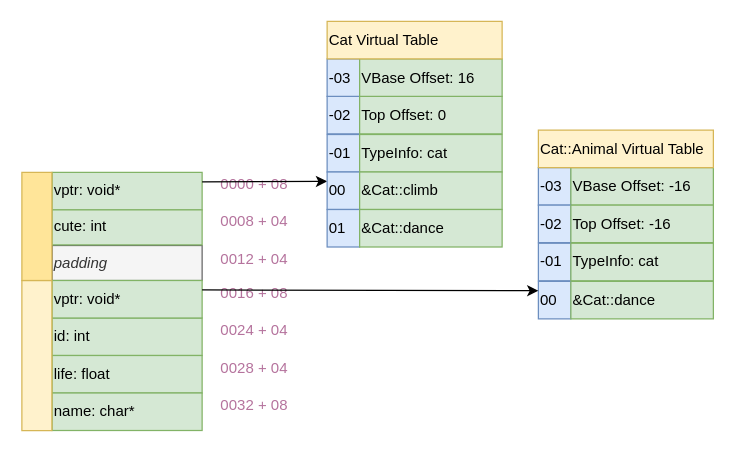
Some shapes in this 736 by 454 pixel diagram are drawn without their labels. The centre of each missing label's shape, as x and y in pixels:
"Animal" belongs at (x=36, y=355).
"Cat" belongs at (x=36, y=225).
